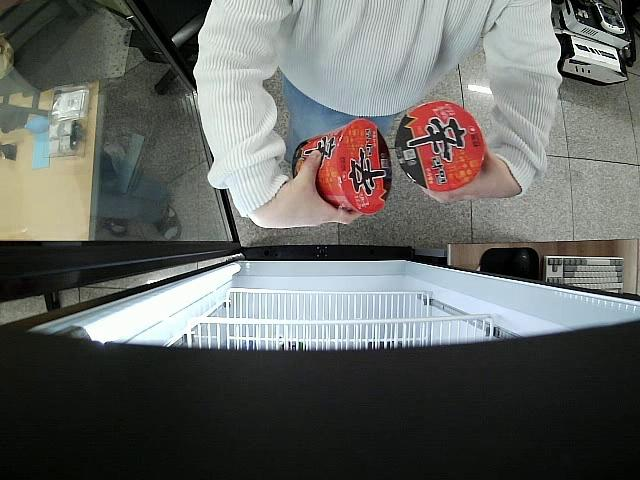00_hand: (255, 149, 361, 229), (419, 139, 516, 204)
01_shinRamen_L: (291, 118, 393, 216), (394, 100, 487, 193)
